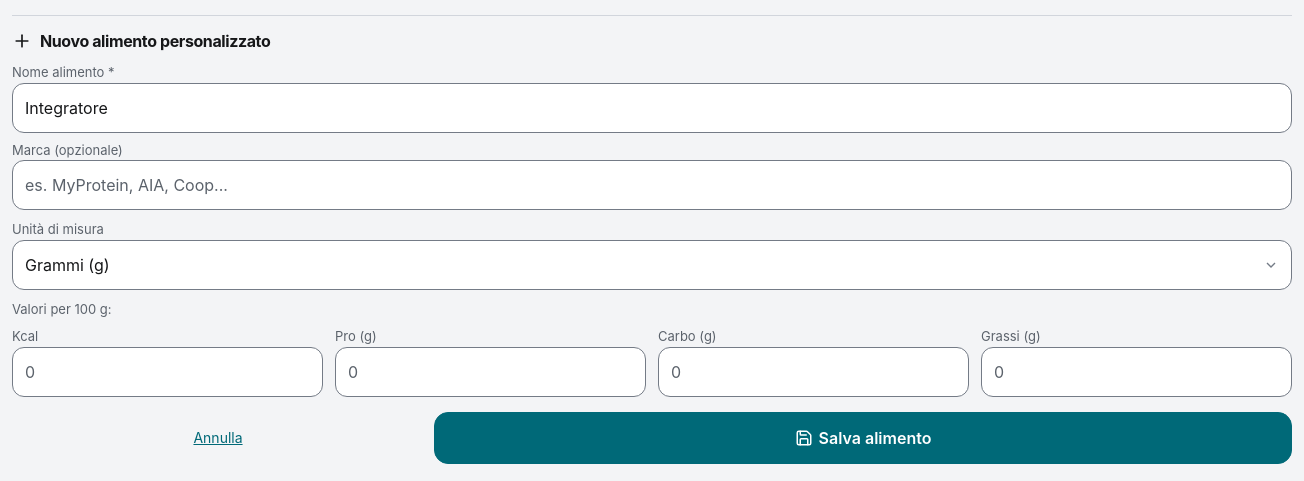
Test: Challenger 2: Adversarial State Management, Schemas, Guest Merge & UI Resilience › 5. UI Rendering & Real-Time Interaction Resilience (R2, R3, R4, R5) › 5.2 CustomFoodForm handles decimal macro inputs and updates kcal accurately
The image size is (1304, 481).
In the number field labelled "Carbo (g)": [814, 372] box left=658, top=346, right=969, bottom=396, type "10.5"
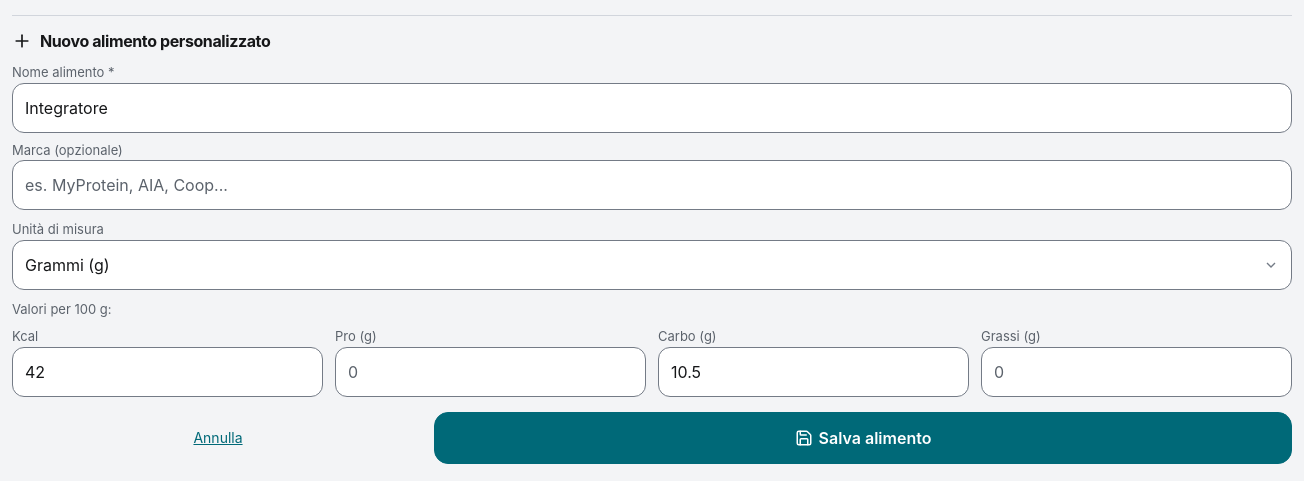
In the number field labelled "Pro (g)": [490, 372] box left=335, top=346, right=646, bottom=396, type "10.5"
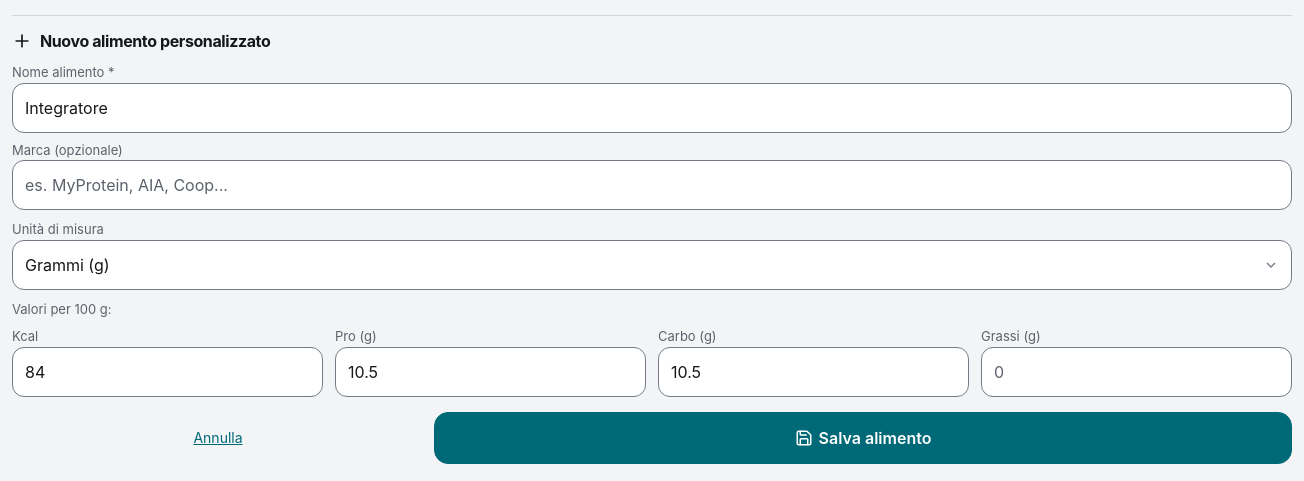
In the number field labelled "Grassi (g)": [1136, 372] box left=981, top=346, right=1292, bottom=396, type "10"
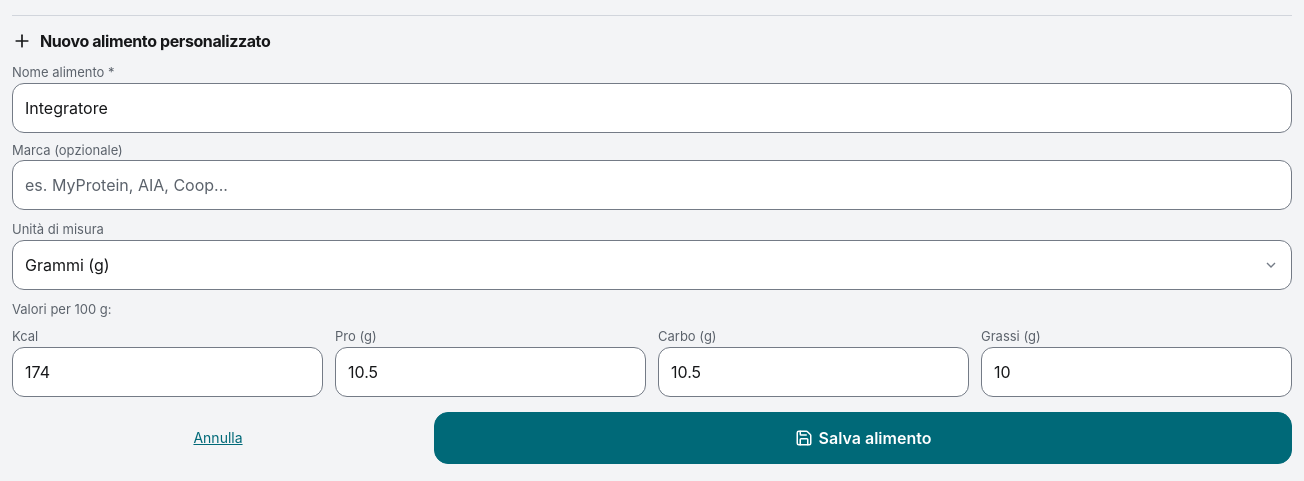
Now the number field labelled "Kcal" holds "174", box left=12, top=346, right=323, bottom=396
